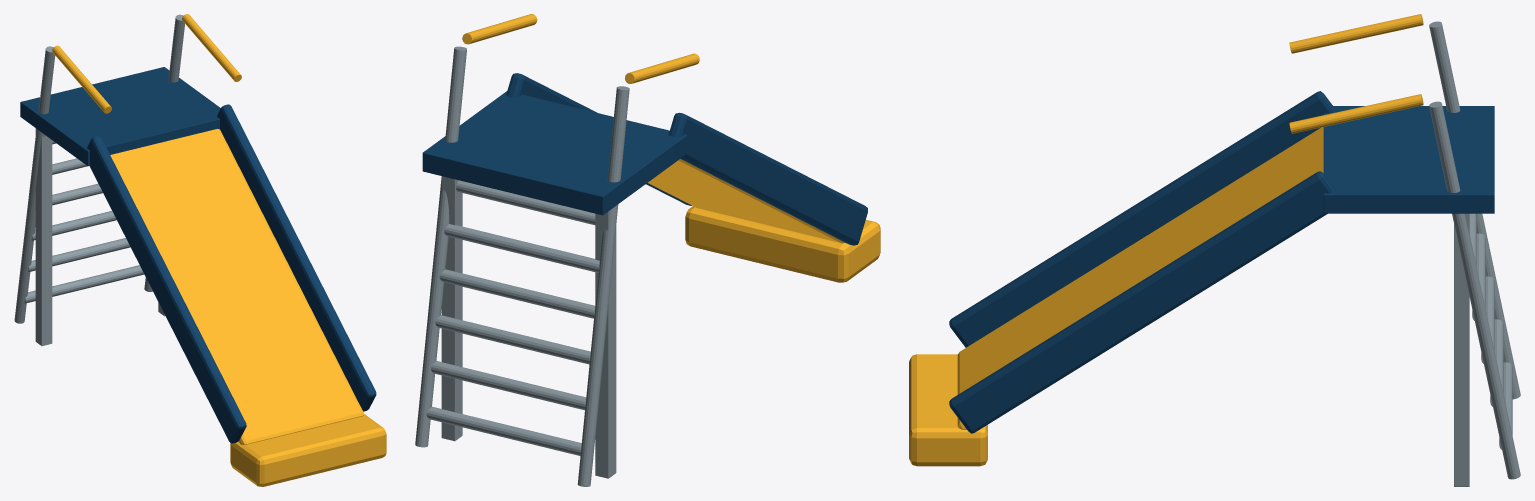
The picture shows the model from 3 angles, left to right: view 1: azimuth 30°, elevation 25°; view 2: azimuth 150°, elevation 25°; view 3: azimuth 270°, elevation 25°; orthographic projection. The views are drawn at different scales.
Visible parts, largest first — view 1: CHUTE_Slope, PLATFORM, CHUTE_Side.001, CHUTE_Side, CHUTE_Landing, SUPPORT, LADDER_Rail, LADDER_Rung, LADDER_Rung.001, RAIL_Hand.001, RAIL_Hand, LADDER_Rail.001 (+2 smaller); view 2: PLATFORM, CHUTE_Side.001, CHUTE_Landing, LADDER_Rail, CHUTE_Slope, LADDER_Rail.001, SUPPORT, SUPPORT.001, LADDER_Rung.002, LADDER_Rung.004, LADDER_Rung.001, LADDER_Rung.003 (+5 smaller); view 3: CHUTE_Side, PLATFORM, CHUTE_Slope, CHUTE_Side.001, CHUTE_Landing, LADDER_Rail.001, SUPPORT.001, LADDER_Rail, RAIL_Hand, RAIL_Hand.001.
Part boxes in pixels (<box>): CHUTE_Slope: <box>110,129,364,444</box>; PLATFORM: <box>20,67,220,166</box>; CHUTE_Side.001: <box>87,136,246,443</box>; CHUTE_Side: <box>217,104,376,411</box>; CHUTE_Landing: <box>230,414,386,486</box>; SUPPORT: <box>35,128,52,345</box>; LADDER_Rail: <box>14,46,55,323</box>; LADDER_Rung: <box>24,265,144,303</box>; LADDER_Rung.001: <box>28,238,130,272</box>; RAIL_Hand.001: <box>182,14,241,81</box>; RAIL_Hand: <box>52,45,111,113</box>; LADDER_Rail.001: <box>144,14,184,291</box>; PLATFORM: <box>422,91,687,215</box>; CHUTE_Side.001: <box>668,112,867,245</box>; CHUTE_Landing: <box>685,206,880,282</box>; LADDER_Rail: <box>577,86,629,486</box>; CHUTE_Slope: <box>647,159,845,243</box>; LADDER_Rail.001: <box>415,46,466,447</box>; SUPPORT: <box>595,210,616,478</box>; SUPPORT.001: <box>441,176,462,441</box>; LADDER_Rung.002: <box>435,315,590,364</box>; LADDER_Rung.004: <box>444,224,599,272</box>; LADDER_Rung.001: <box>431,361,586,410</box>; LADDER_Rung.003: <box>439,269,595,318</box>; CHUTE_Side: <box>949,171,1335,433</box>; PLATFORM: <box>1323,106,1494,213</box>; CHUTE_Slope: <box>957,127,1323,429</box>; CHUTE_Side.001: <box>949,91,1335,347</box>; CHUTE_Landing: <box>909,354,987,466</box>; LADDER_Rail.001: <box>1429,101,1520,479</box>; SUPPORT.001: <box>1454,213,1469,486</box>; LADDER_Rail: <box>1429,21,1520,399</box>; RAIL_Hand: <box>1289,14,1423,53</box>; RAIL_Hand.001: <box>1289,94,1423,133</box>.
Bounding box in the file's own units: 0.8 × 1.64 × 2.32.
